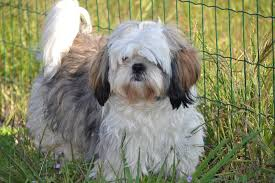dog: (19, 1, 212, 182)
